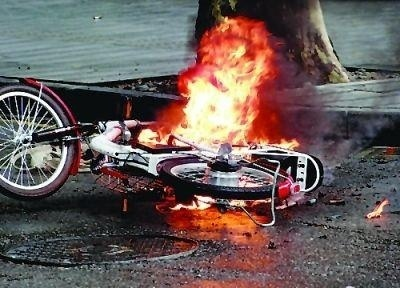fire: (151, 14, 298, 155), (367, 197, 390, 218)
